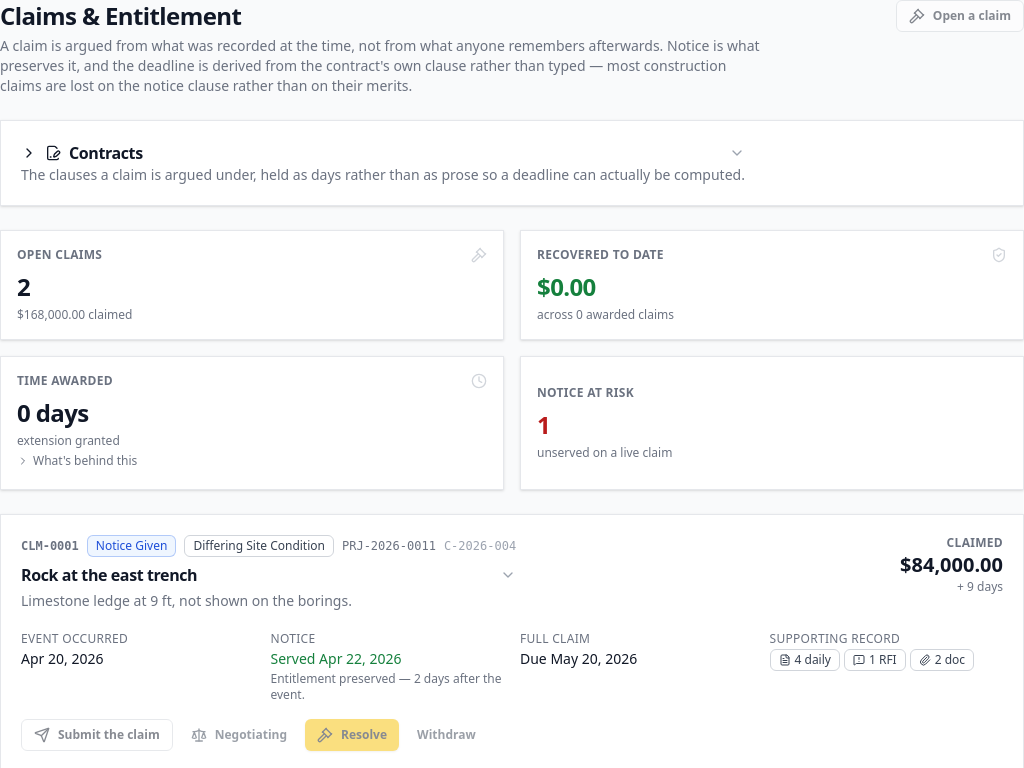
filtering › narrows to the claims whose notice is unserved
The image size is (1024, 768).
Check: the text "Rock at the east trench" is shown, box [21, 564, 197, 586]
Click the button with aria-label "notice has not been served": coordinates (585, 392) [520, 356, 1023, 490]
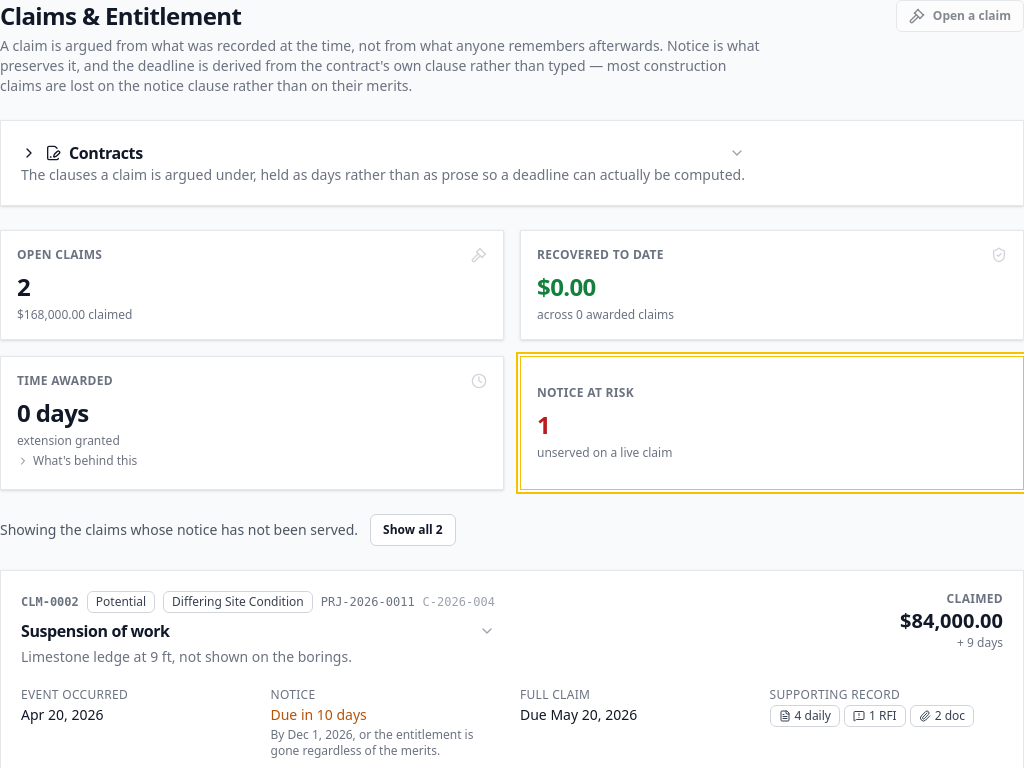
Check: the text "Suspension of work" is shown, box [21, 620, 170, 642]
Check: the button "Rock at the east trench" is gone
